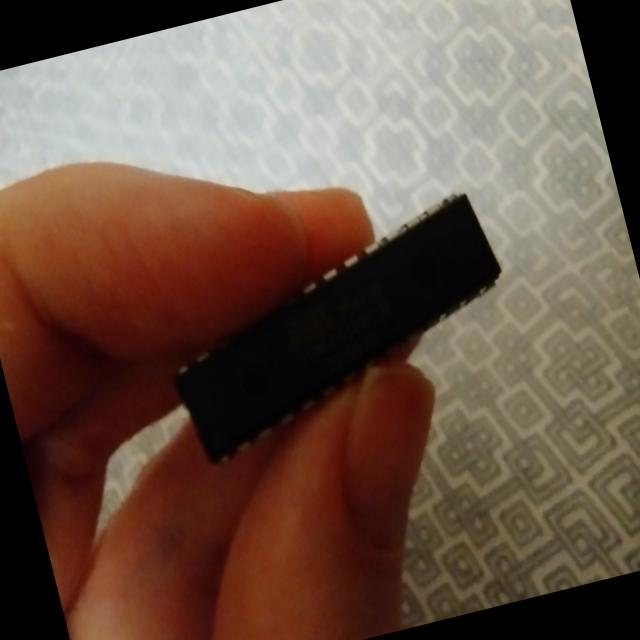atmega: (140, 181, 533, 473)
